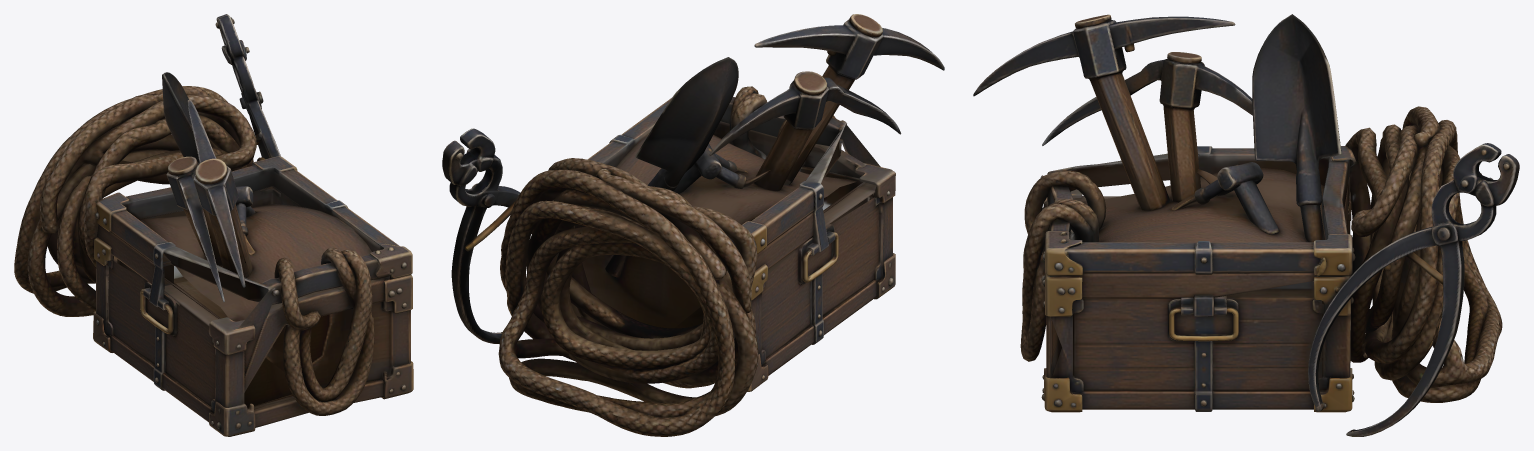
The model's file is SM_Cargo_B_ToolCrate_Tools.glb.
The picture shows the model from 3 angles, left to right: view 1: azimuth 30°, elevation 25°; view 2: azimuth 150°, elevation 25°; view 3: azimuth 270°, elevation 25°; orthographic projection. The views are drawn at different scales.
Parts seen in each view (by area): view 1: tripo_node_3acdafb3; view 2: tripo_node_3acdafb3; view 3: tripo_node_3acdafb3.
Part boxes in pixels (x1,y1,x2,y2): tripo_node_3acdafb3: [14, 14, 413, 436]; tripo_node_3acdafb3: [442, 14, 944, 436]; tripo_node_3acdafb3: [973, 14, 1519, 436].
Bounding box in the file's own units: 0.6528 × 0.6528 × 0.9995.
1 material, 1 textured.
